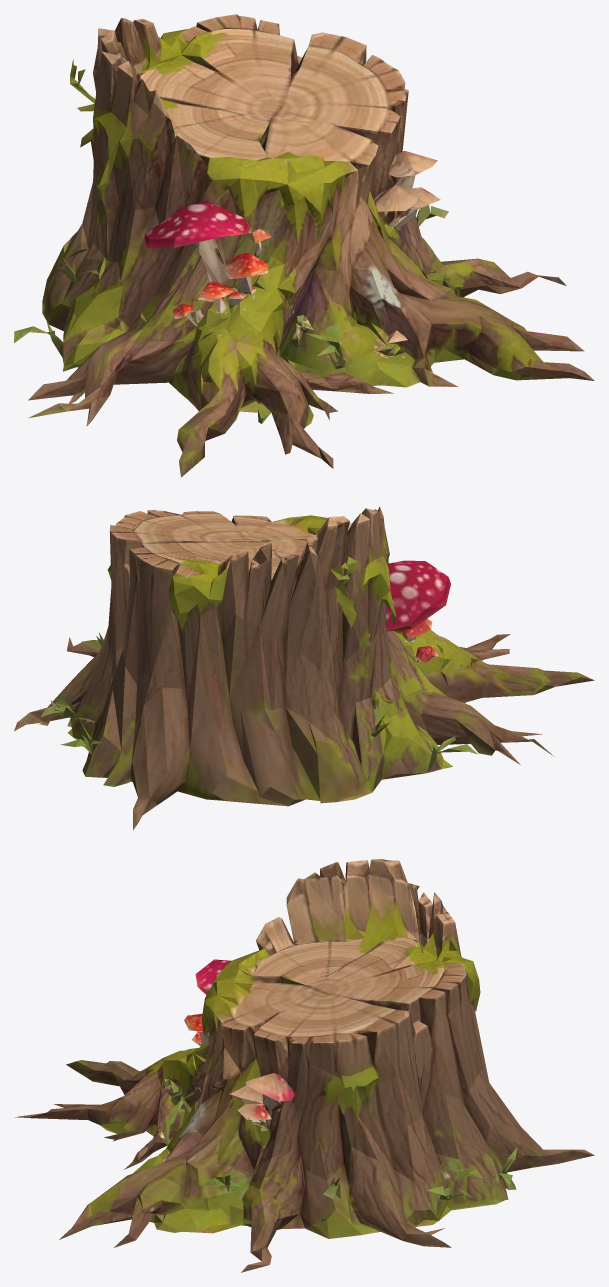
File: forest_stump.glb
The picture shows the model from 3 angles, top to bottom: view 1: azimuth 30°, elevation 25°; view 2: azimuth 150°, elevation 25°; view 3: azimuth 270°, elevation 25°; orthographic projection. The views are drawn at different scales.
Visible parts, largest first — view 1: output_unwrapped; view 2: output_unwrapped; view 3: output_unwrapped.
Boxes of the visible parts, box(x1,y1,x2,y2) form: output_unwrapped: box(14, 14, 594, 477); output_unwrapped: box(14, 506, 594, 829); output_unwrapped: box(15, 859, 594, 1272).
Size of the model in its own units: 1.8 by 0.913 by 1.91.
Materials: 1 (1 with a texture image).
